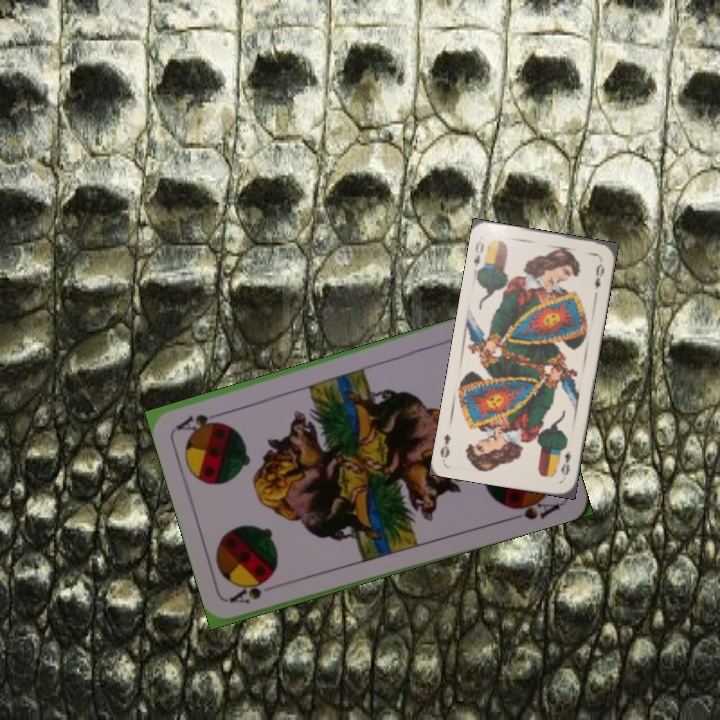EO: (557, 440, 573, 481), (470, 237, 486, 270)
SA: (226, 575, 273, 607)
